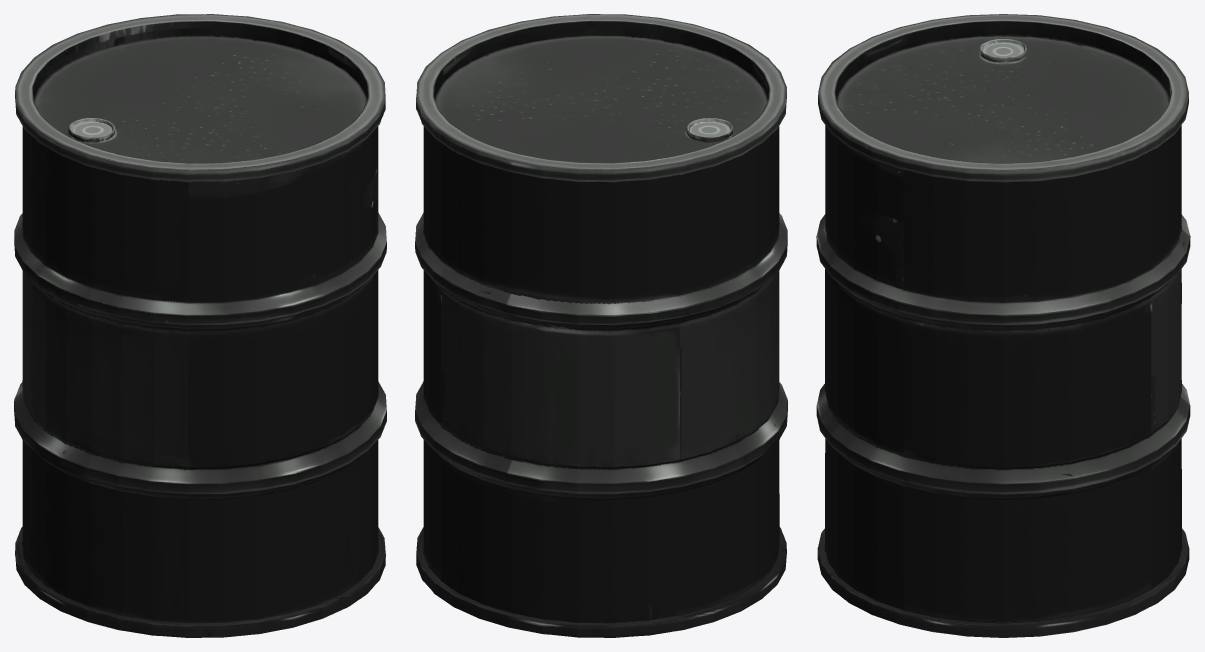
The model's file is oil.glb.
3 views of the same model, side by side, from view 1: azimuth 30°, elevation 25°; view 2: azimuth 150°, elevation 25°; view 3: azimuth 270°, elevation 25° (orthographic).
Parts seen in each view (by area): view 1: model; view 2: model; view 3: model.
Boxes of the visible parts, x1,y1,x2,y2 form: model: (14, 14, 386, 637); model: (415, 14, 787, 637); model: (816, 14, 1190, 637).
Size of the model in its own units: 1.38 by 1.9 by 1.38.
Materials: 1 (1 with a texture image).
